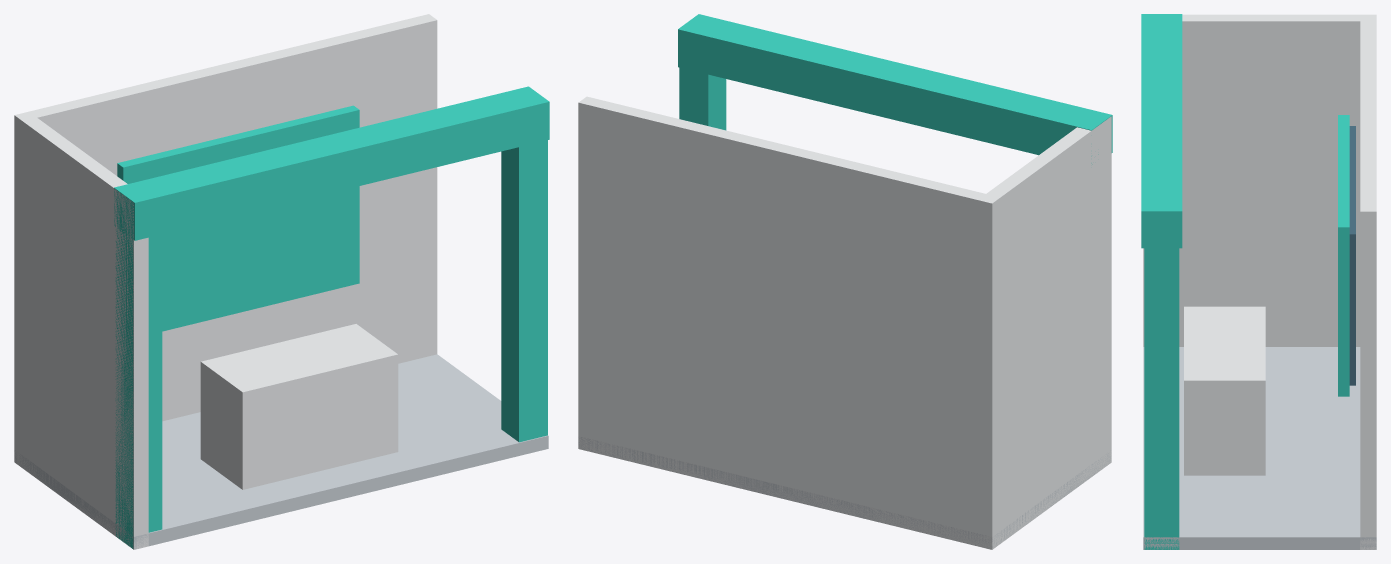
The picture shows the model from 3 angles, left to right: view 1: azimuth 30°, elevation 25°; view 2: azimuth 150°, elevation 25°; view 3: azimuth 270°, elevation 25°; orthographic projection. The views are drawn at different scales.
Parts seen in each view (by area): view 1: Exhibition Booth Concept; view 2: Exhibition Booth Concept; view 3: Exhibition Booth Concept.
Part boxes in pixels (x1,y1,x2,y2): Exhibition Booth Concept: [14, 14, 549, 549]; Exhibition Booth Concept: [578, 14, 1112, 549]; Exhibition Booth Concept: [1141, 14, 1376, 549].
Size of the model in its own units: 4 by 3.2 by 2.01.
